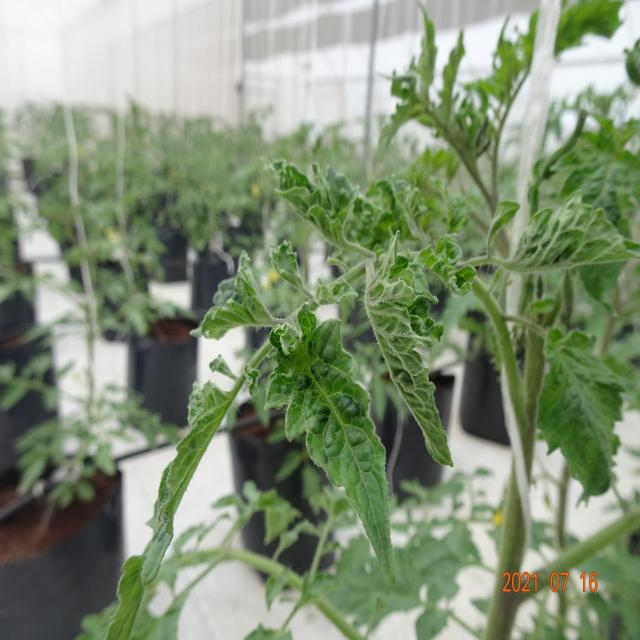T_L_H: (106, 557, 145, 640)
T_L_R: (266, 305, 396, 584), (141, 378, 245, 587), (366, 234, 453, 466), (539, 330, 626, 501), (507, 190, 640, 273), (269, 160, 374, 257), (193, 252, 280, 340), (415, 233, 478, 295), (270, 240, 313, 299), (317, 279, 359, 305), (245, 364, 261, 401)
